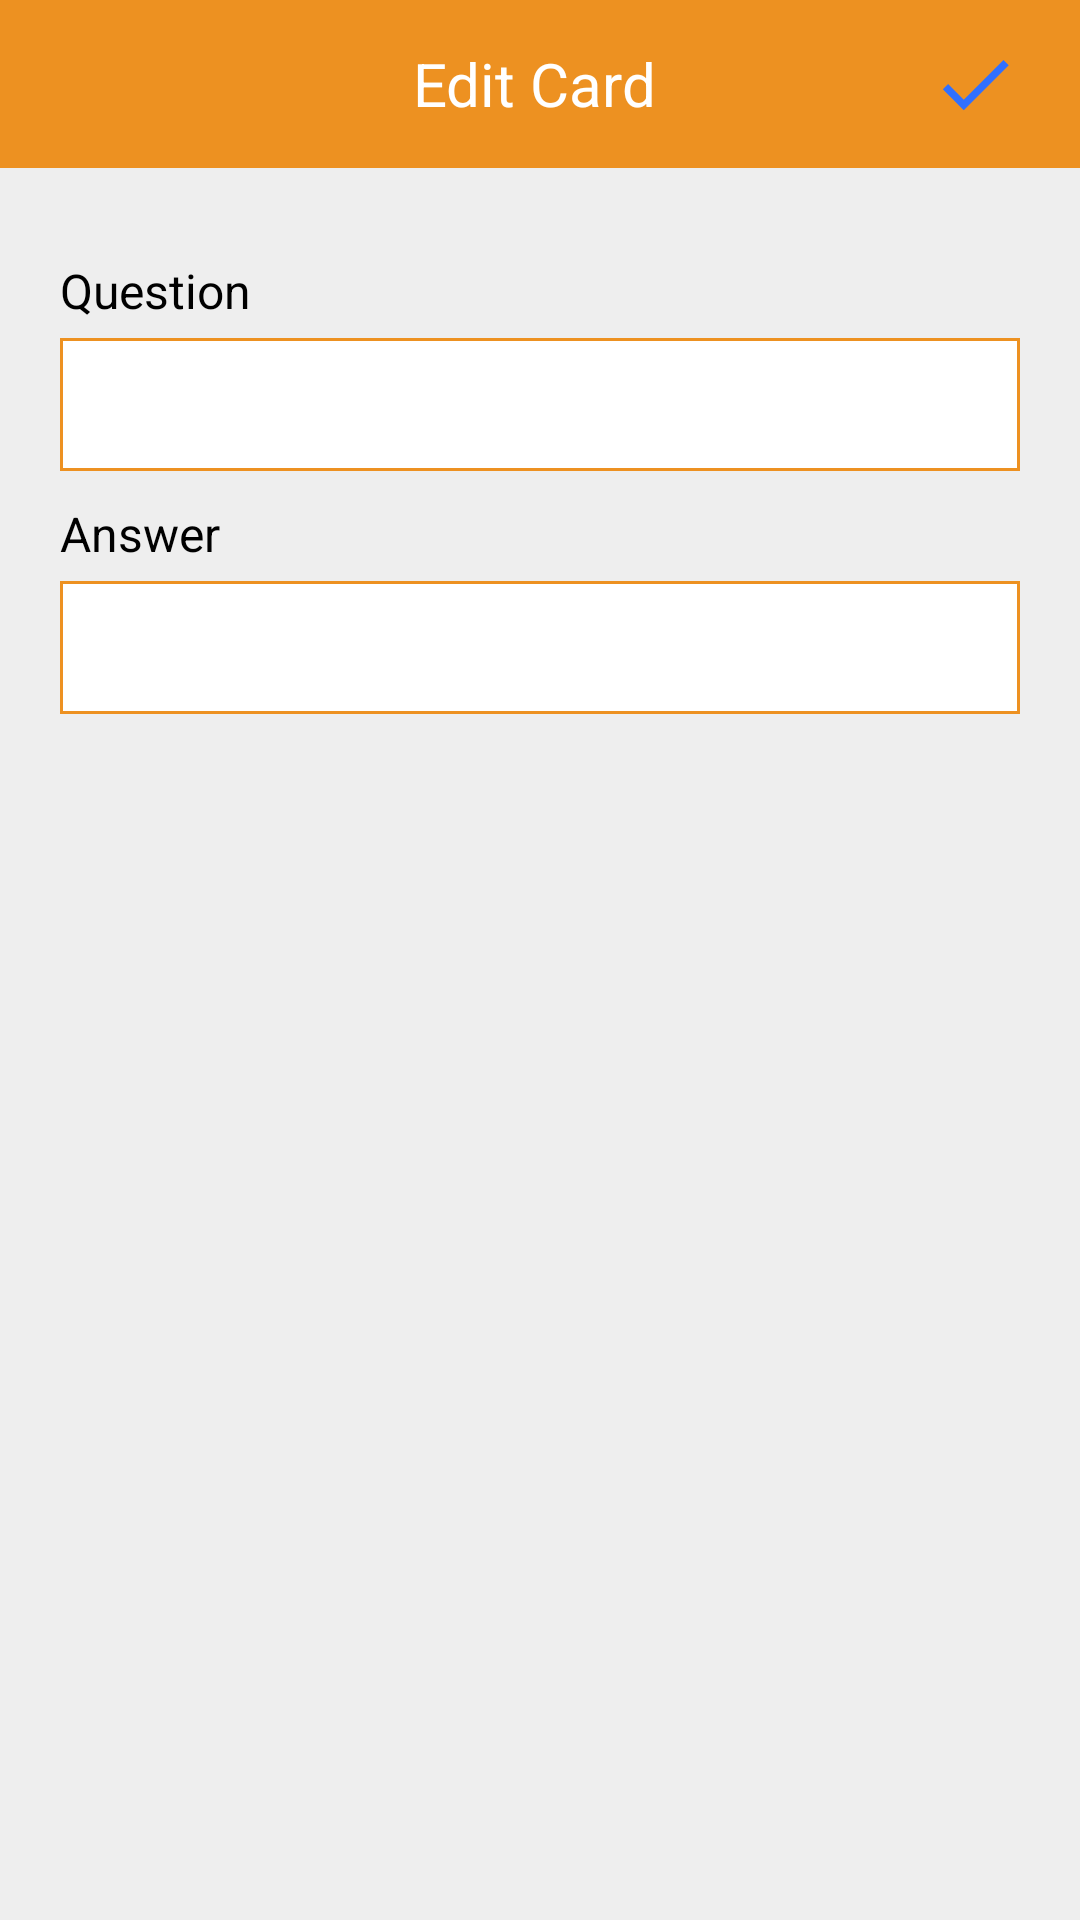

Point at icon controls on the screen. Image size 1080×1920, points as [x,y].
Finish: [976,85]
